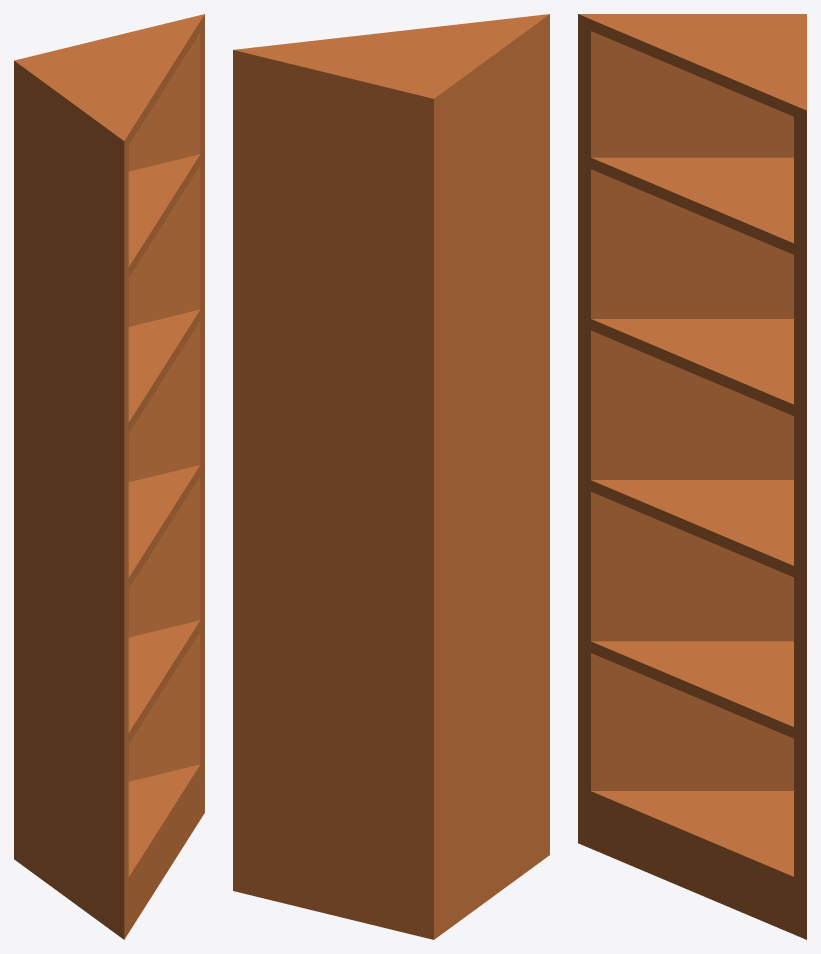
Rendered from shelf.glb.
The picture shows the model from 3 angles, left to right: view 1: azimuth 30°, elevation 25°; view 2: azimuth 150°, elevation 25°; view 3: azimuth 270°, elevation 25°; orthographic projection. The views are drawn at different scales.
Parts seen in each view (by area): view 1: Node; view 2: Node; view 3: Node.
Part boxes in pixels (x1,y1,x2,y2): Node: (14, 14, 204, 939); Node: (233, 14, 549, 939); Node: (578, 14, 806, 939).
Bounding box in the file's own units: 18 × 72 × 18.
